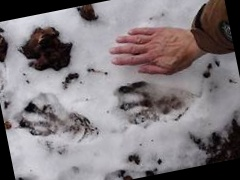puma: (0, 5, 228, 157)
